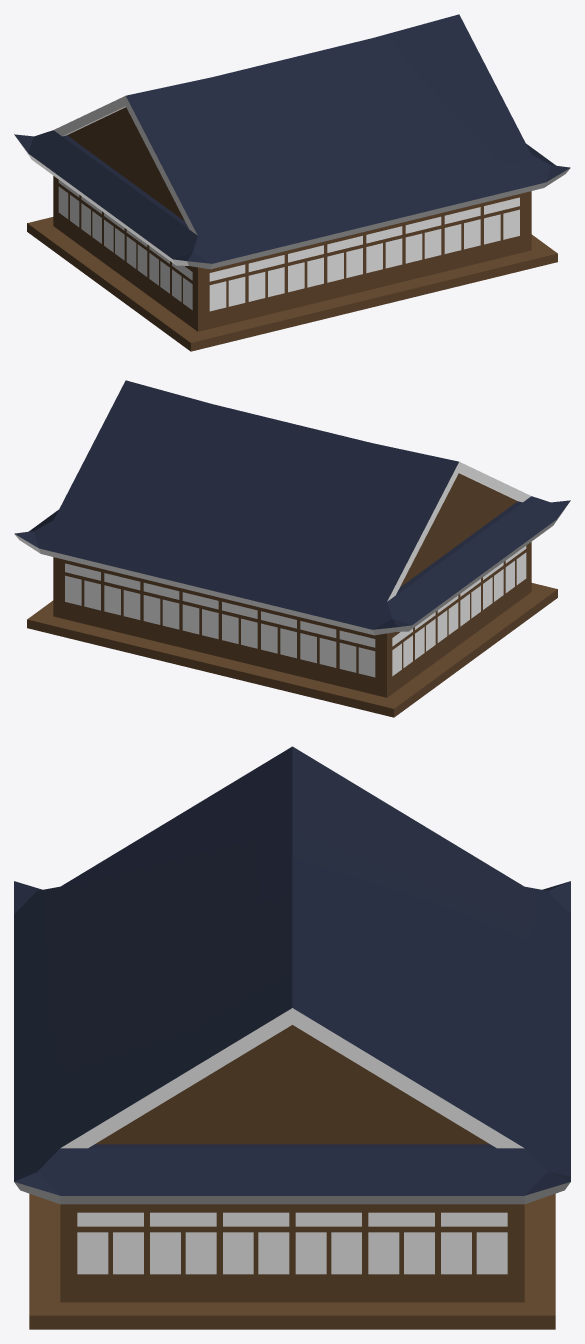
Rendered from building-japan_large.glb.
3 renders of one model, top to bottom at view 1: azimuth 30°, elevation 25°; view 2: azimuth 150°, elevation 25°; view 3: azimuth 270°, elevation 25°, orthographic. The views are drawn at different scales.
Visible parts, largest first — view 1: building-japan_large; view 2: building-japan_large; view 3: building-japan_large.
Boxes of the visible parts, left/top/right/bottom form: building-japan_large: left=14, top=14, right=570, bottom=351; building-japan_large: left=14, top=380, right=570, bottom=717; building-japan_large: left=14, top=746, right=570, bottom=1329.
Bounding box in the file's own units: 23 × 11 × 18.
1 material, 1 textured.
